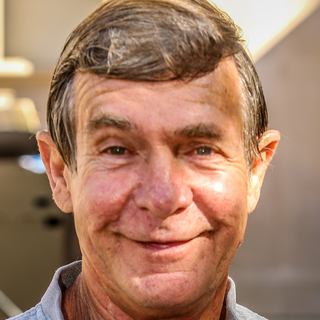eye: (178, 139, 231, 164), (92, 139, 139, 163)
